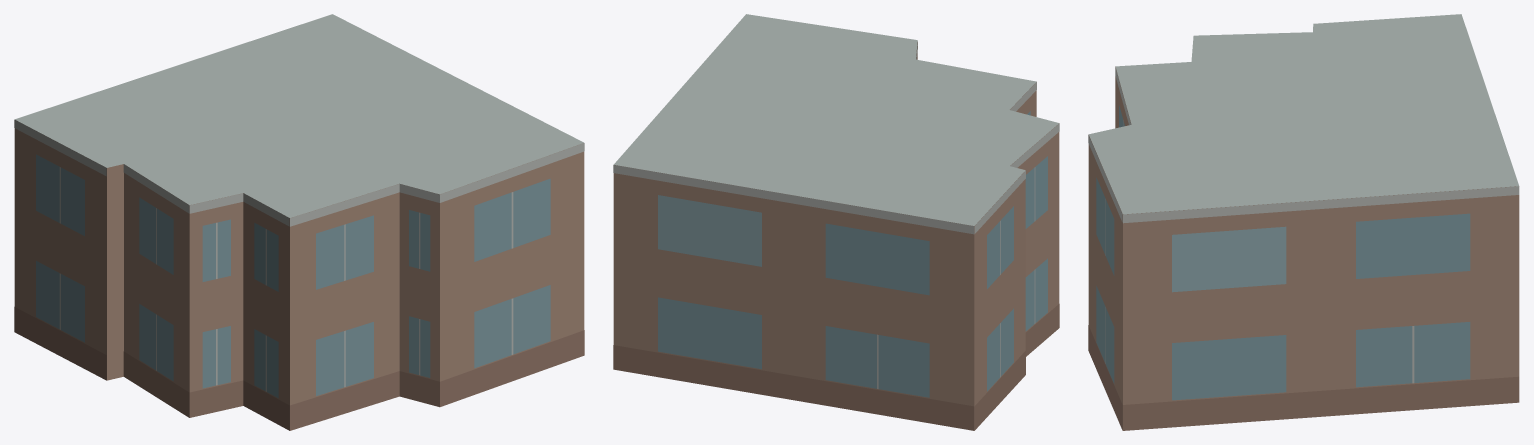
File: survey-upis-32587554.glb
3 views of the same model, side by side, from view 1: azimuth 30°, elevation 25°; view 2: azimuth 150°, elevation 25°; view 3: azimuth 270°, elevation 25° (orthographic). The views are drawn at different scales.
Visible parts, largest first — view 1: survey-upis-32587554.tmp; view 2: survey-upis-32587554.tmp; view 3: survey-upis-32587554.tmp.
Boxes of the visible parts, left/top/right/bottom form: survey-upis-32587554.tmp: left=14, top=14, right=584, bottom=430; survey-upis-32587554.tmp: left=613, top=14, right=1059, bottom=430; survey-upis-32587554.tmp: left=1088, top=14, right=1519, bottom=430.
Size of the model in its own units: 11.53 by 5.8 by 10.47.
